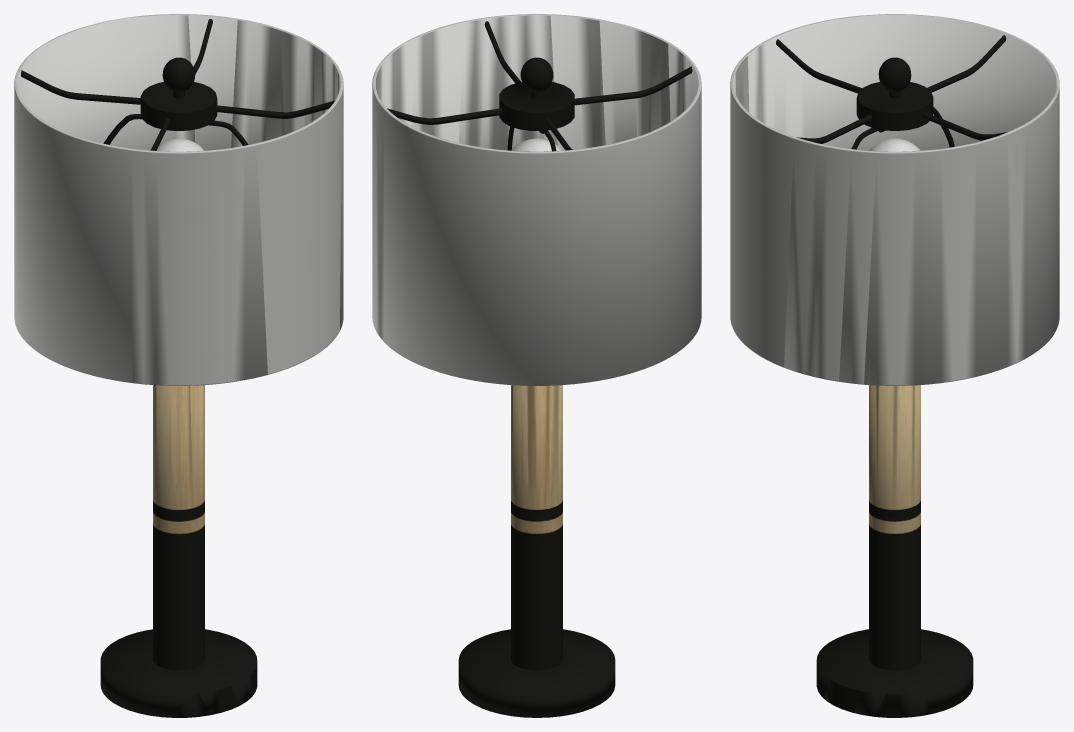
File: B0825DNRXL.glb
3 views of the same model, side by side, from view 1: azimuth 30°, elevation 25°; view 2: azimuth 150°, elevation 25°; view 3: azimuth 270°, elevation 25° (orthographic).
Parts seen in each view (by area): view 1: RootNode; view 2: RootNode; view 3: RootNode.
Part boxes in pixels (x1,y1,x2,y2): RootNode: (14,14,343,717); RootNode: (372,14,701,717); RootNode: (730,14,1059,717).
Bounding box in the file's own units: 0.3046 × 0.6401 × 0.3046.
1 material, 1 textured.
